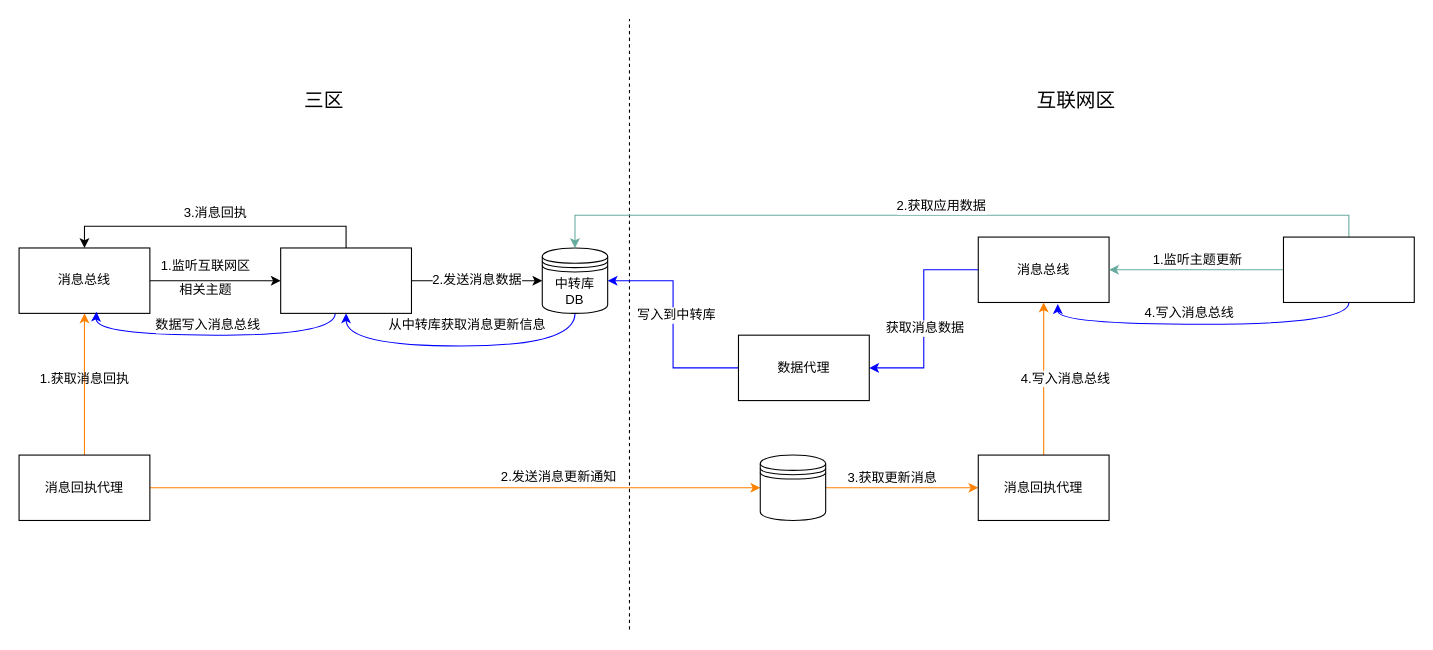
This 1433x650 diagram has some shape labels left out. The centre of each missing label's shape, as x and y in pixels:
"应用" goes at point 1348,269.
"消息代理" goes at point 345,280.
"消息库 DB" goes at point 792,487.
